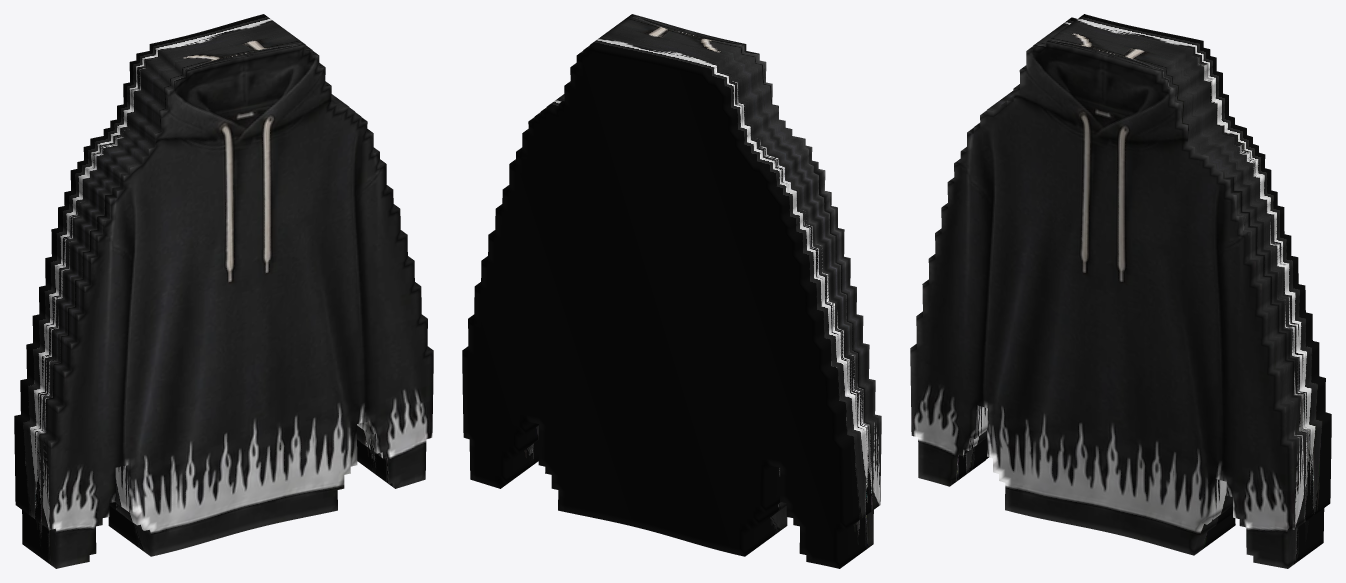
File: rail-06-flame-hoodie.glb
3 renders of one model, left to right at view 1: azimuth 30°, elevation 25°; view 2: azimuth 150°, elevation 25°; view 3: azimuth 330°, elevation 25°, orthographic.
Visible parts, largest first — view 1: 06-flame-hoodie-cutout; view 2: 06-flame-hoodie-cutout; view 3: 06-flame-hoodie-cutout.
Boxes of the visible parts, x1,y1,x2,y2 form: 06-flame-hoodie-cutout: (14, 14, 433, 568); 06-flame-hoodie-cutout: (462, 14, 881, 568); 06-flame-hoodie-cutout: (910, 14, 1331, 568).
Bounding box in the file's own units: 0.531 × 0.63 × 0.104.
1 material, 1 textured.
